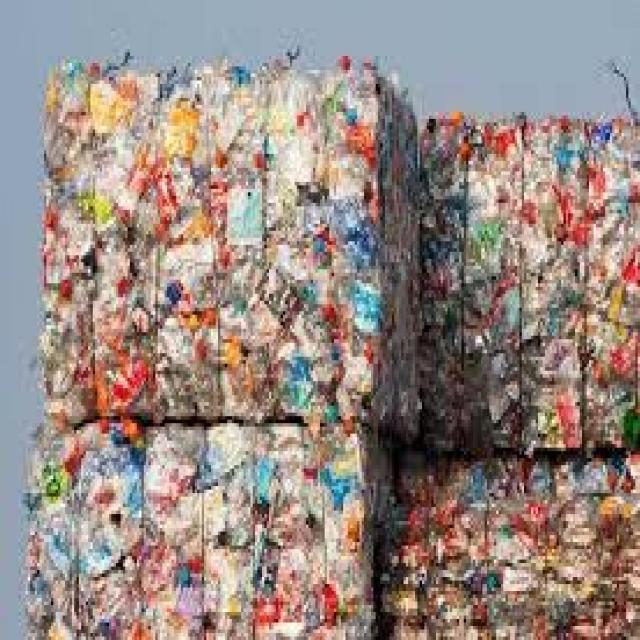heap: (62, 64, 405, 417)
